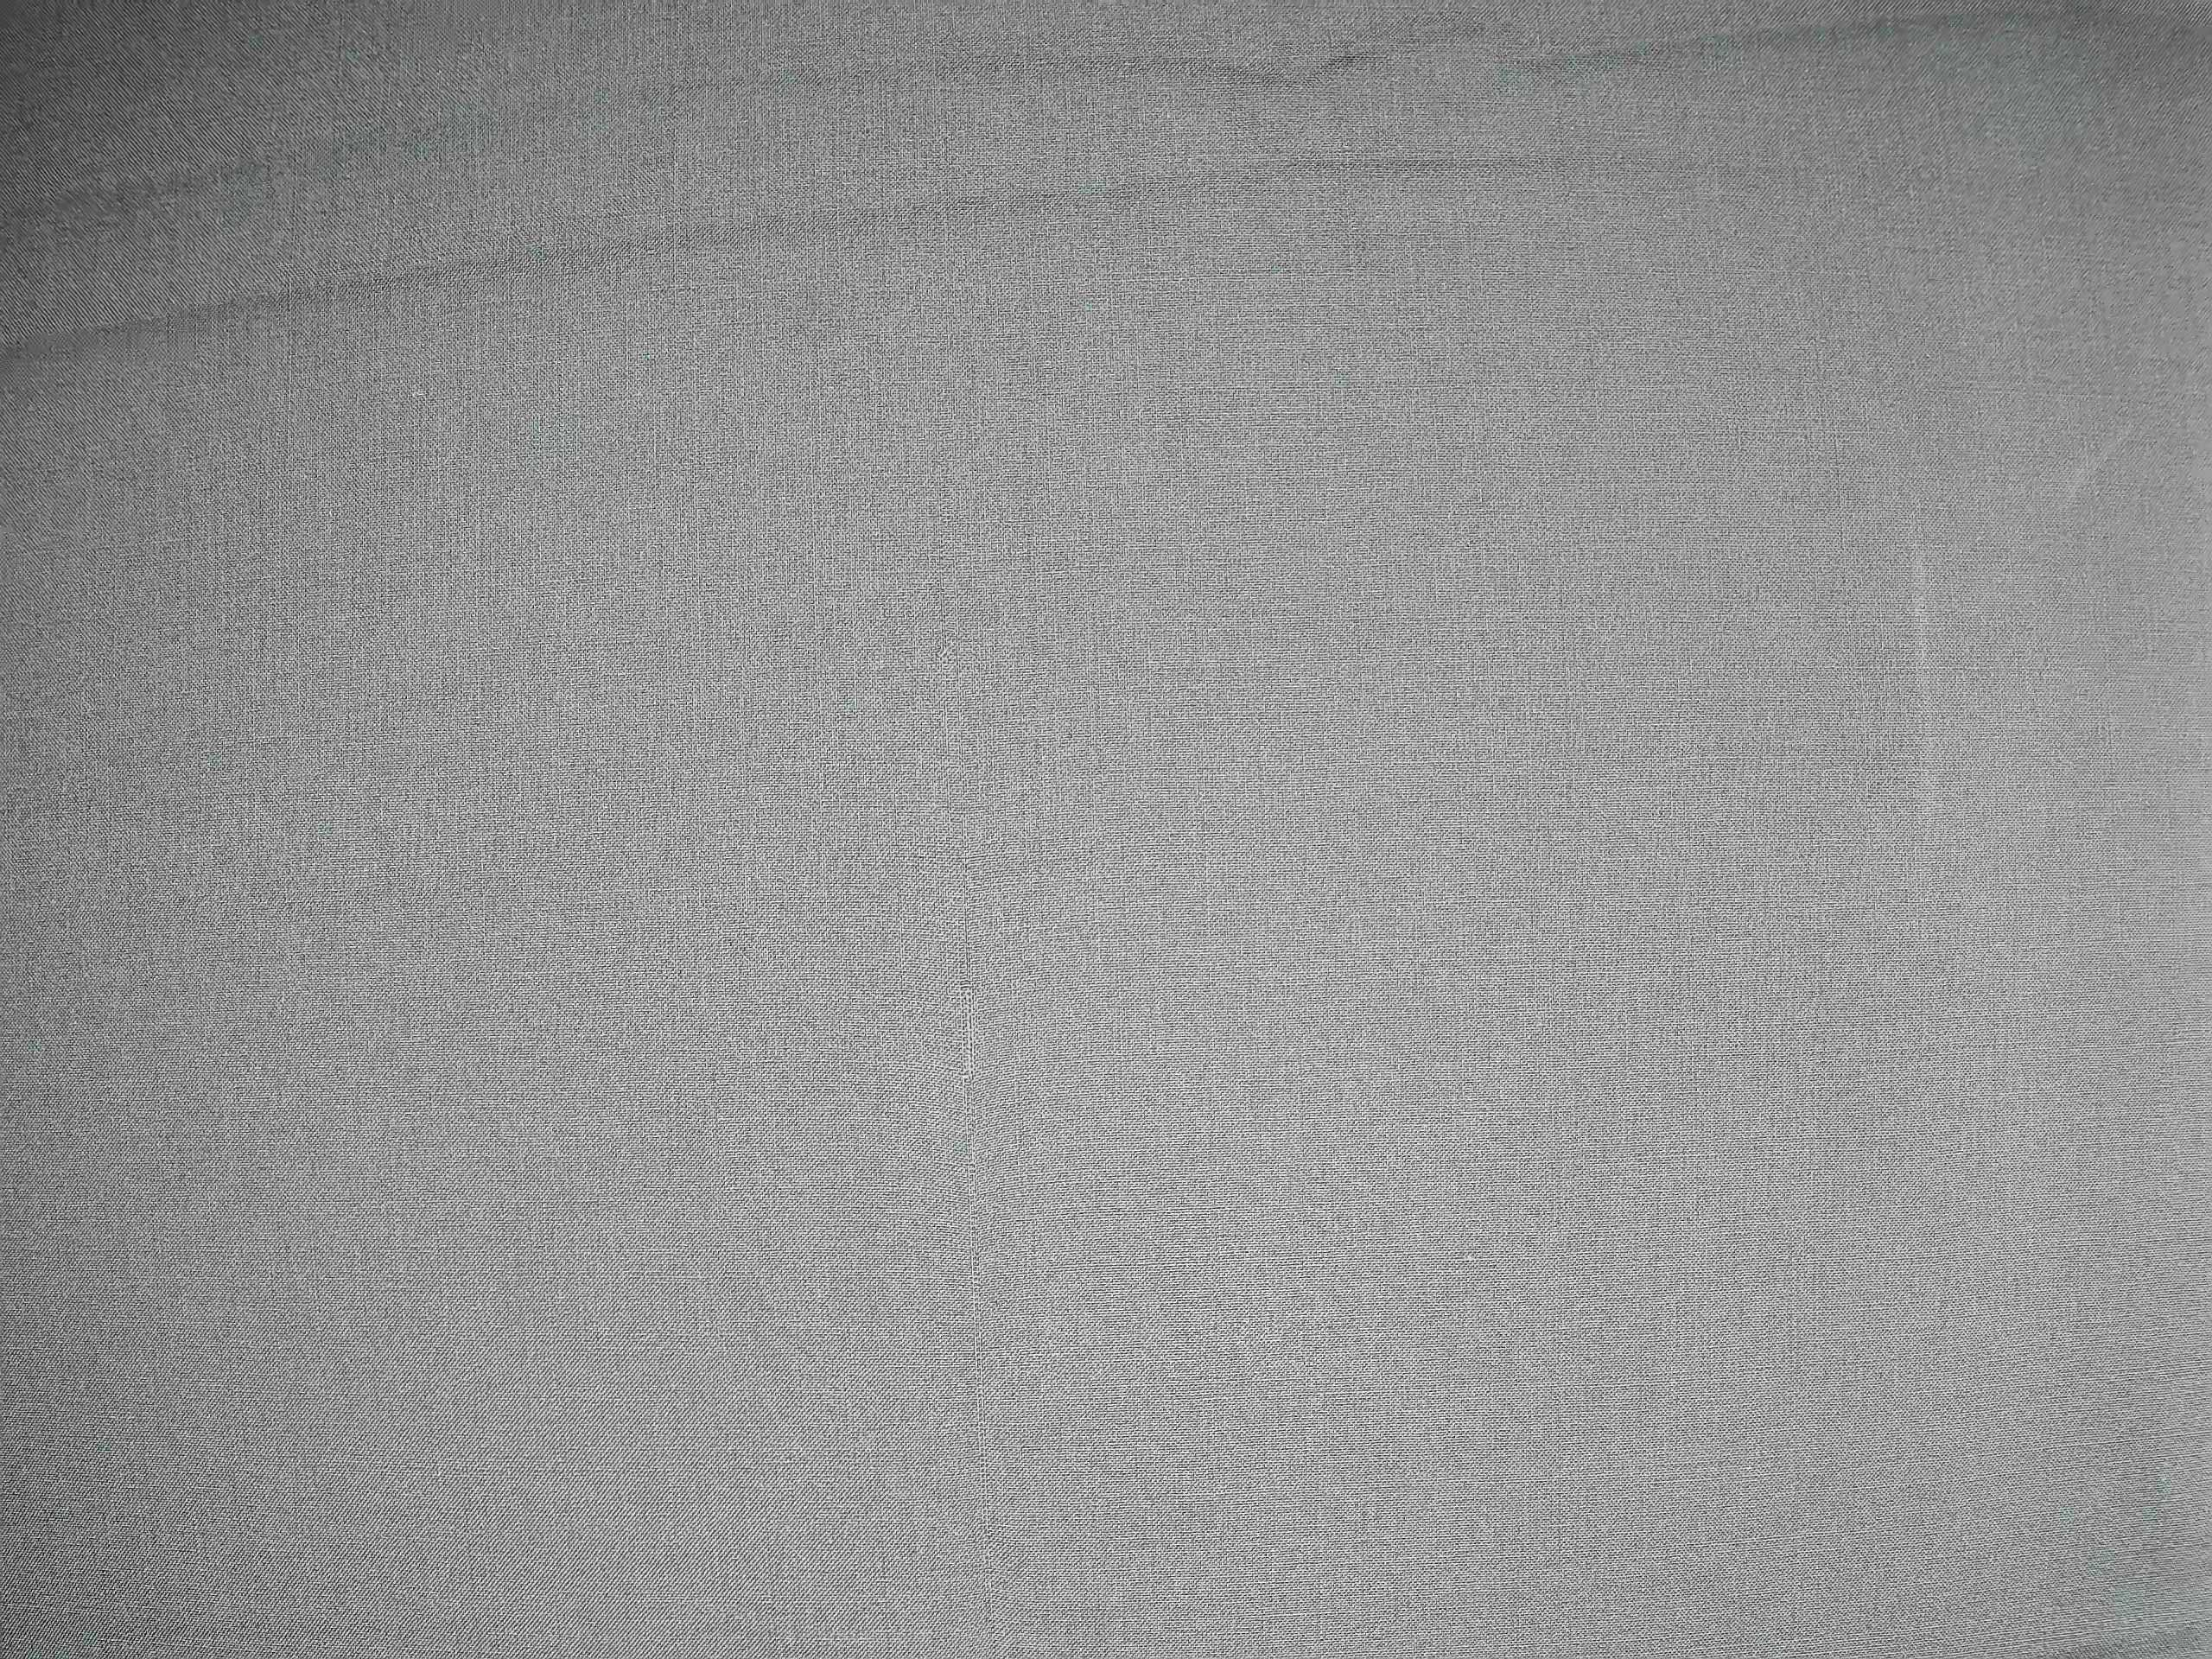hanging-warp: (941, 824, 1003, 1622)
